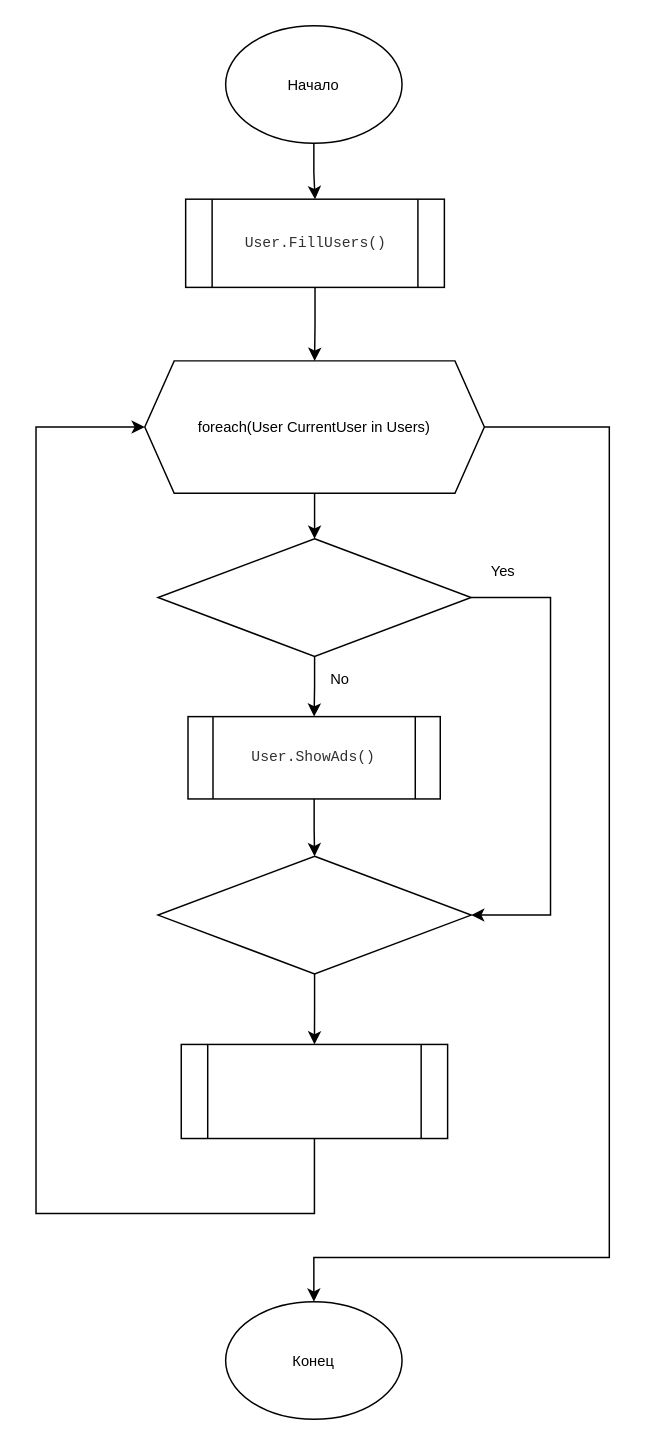
Image size: 647x1445. Some labels were removed from this diagram. The shapes that lost their labels are listed below. From the top down, each one's box as (x1, y1, x2, y2) in pixels, then its label:
(157, 537, 471, 656): CurrentUser.IsPremium = = true
(180, 1043, 448, 1139): CurrentUser .SayHi()
